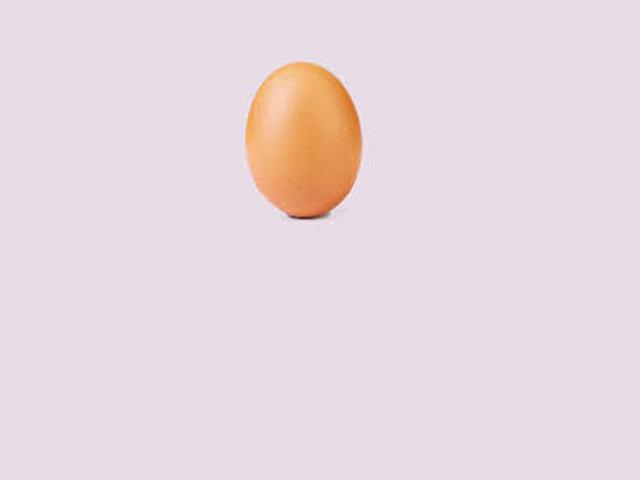egg: (247, 60, 361, 218)
